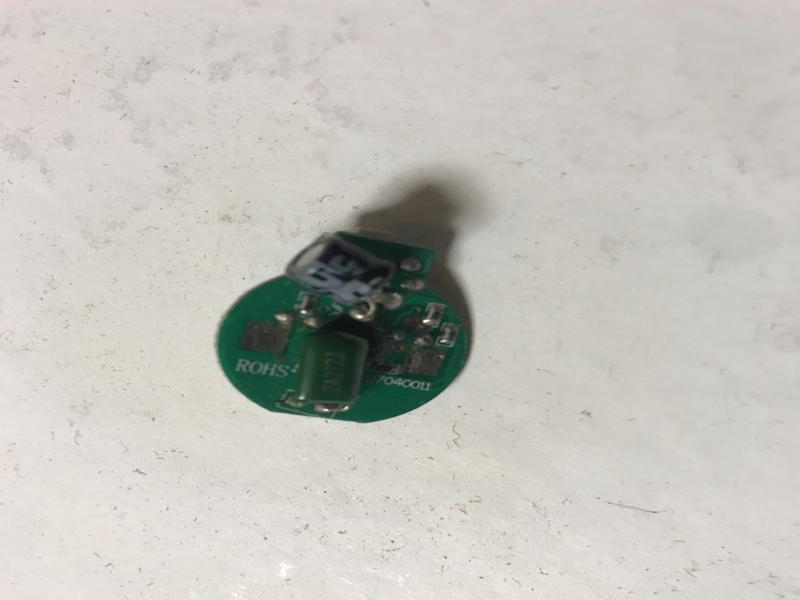Capacitor: (279, 231, 396, 308)
